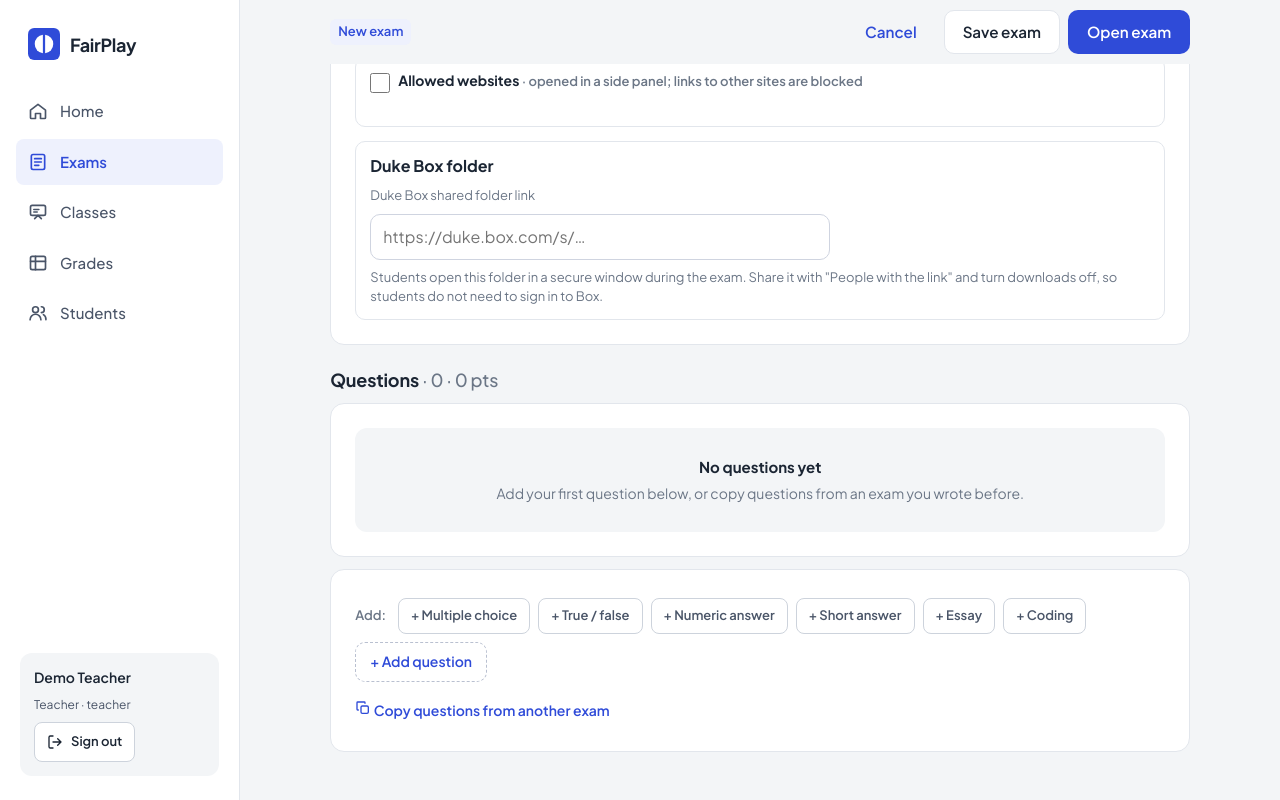
it: 2026-10-13 simpler exam editor › copies questions from another exam
(page scrolled)
What coordinates should you click on to do the following:
click the button "Copy questions from another exam"
I would click on:
 (482, 710)
Its box is [355,694,610,726].
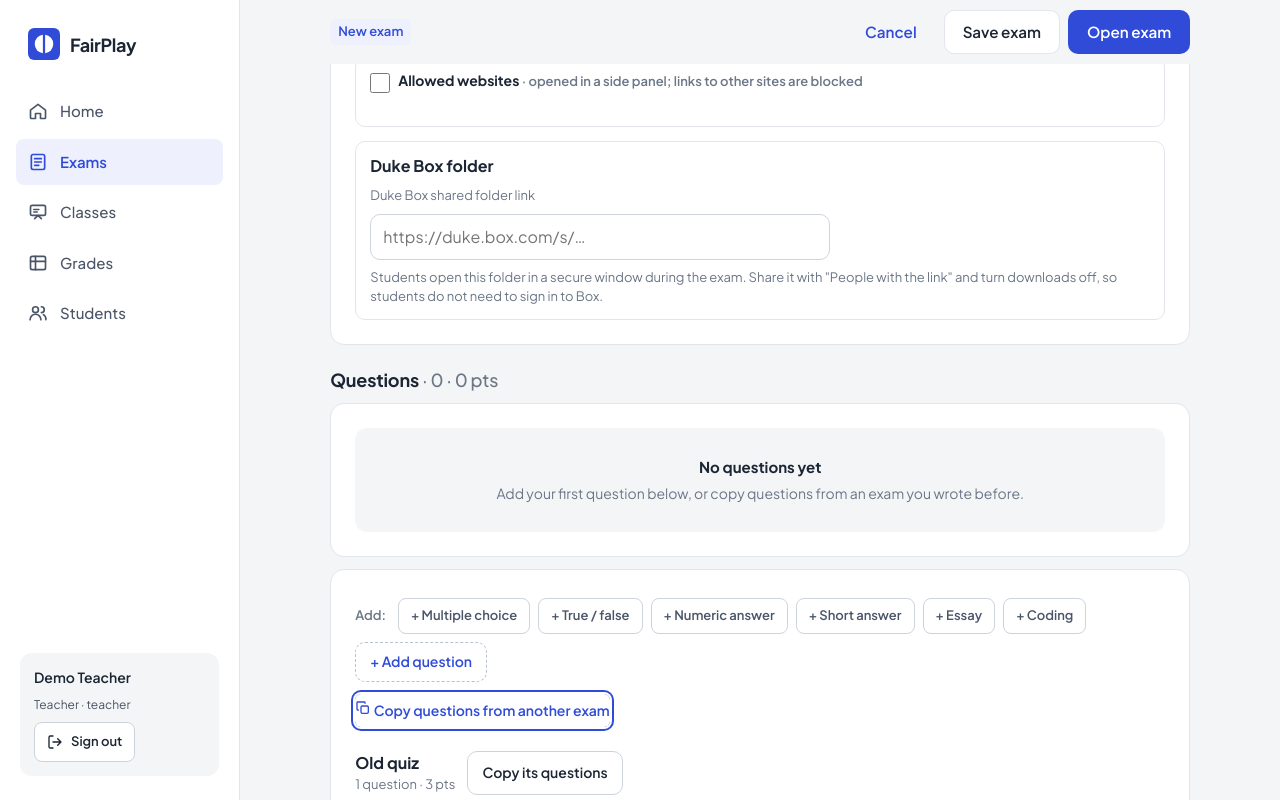
What coordinates should you click on to do the following:
click the button "Copy its questions"
I would click on:
 (545, 772)
Its box is [468,750,623,794].
(page scrolled)
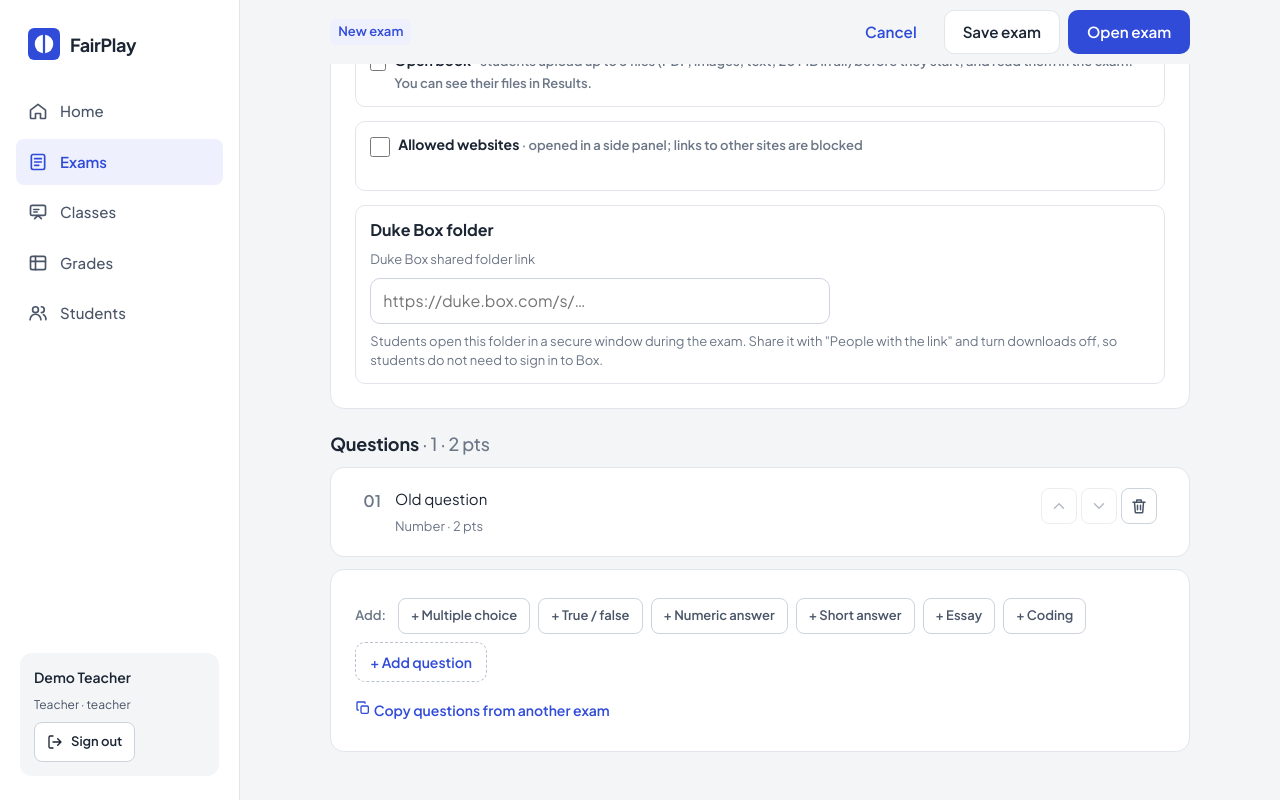
expect the text "Old question" is shown: met, box [395,488,487,510]
